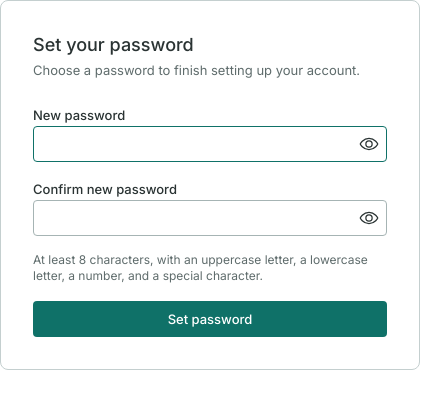
Test: SetPasswordForm › refuses a password that misses a policy requirement
In the password field labelled "New password": (210, 144) [34, 127, 386, 161], type "alllowercase1!"
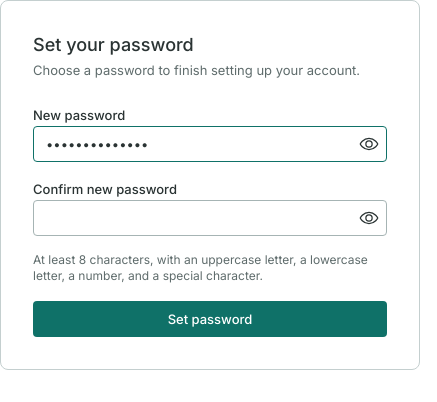
In the password field labelled "Confirm new password": (210, 218) [34, 200, 386, 234], type "alllowercase1!"
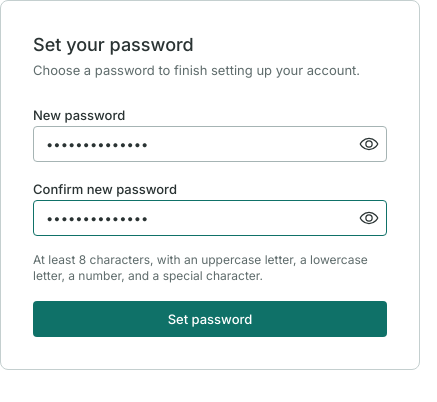
Click the button "Set password": (210, 319) [33, 301, 387, 337]
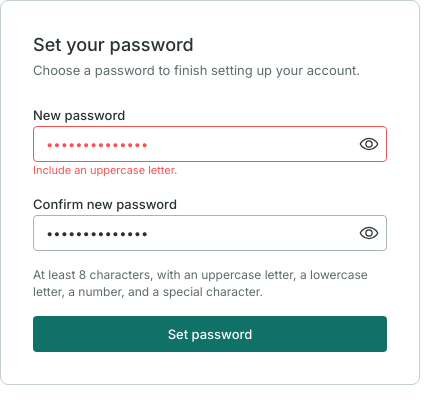
Now the text "Include an uppercase letter." is shown, box [33, 163, 177, 177]
